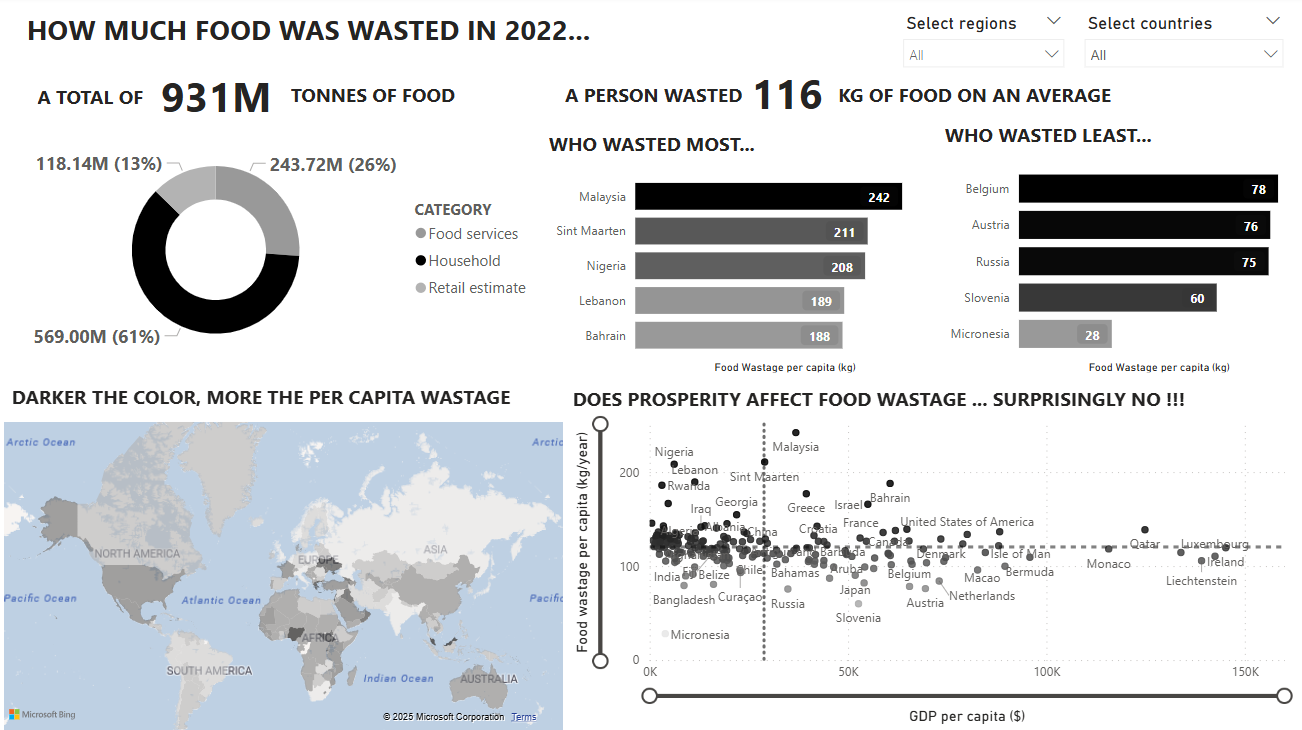

The dashboard page shown, as its layout file describes it:
{"tool":"powerbi","page":{"name":"Page 1","canvas":[1280,720],"ordinal":0},"visuals":[{"type":"clusteredBarChart","title":"WHO WASTED MOST...","fields":{"Category":["fin_v1.Country"],"Y":["fin_v1.Measure 2"]},"box":[530.1,131.4,385.6,241],"z":0},{"type":"slicer","fields":{"Values":["fin_v1.UN Region"]},"box":[870.4,11.7,176.7,67.2],"z":1000},{"type":"card","fields":{"Values":["fin_v1.Total Wastage"]},"box":[143.1,51.1,135.8,92],"z":2000},{"type":"textbox","box":[32.1,80.3,124.1,36.5],"z":3000},{"type":"filledMap","fields":{"Category":["fin_v1.Country"]},"box":[0,410.4,553.5,309.6],"z":4000},{"type":"donutChart","title":"Category-wise distribution","fields":{"Y":["Sum(fin_v1.Food service estimate (tonnes/year))","Sum(fin_v1.Household estimate (tonnes/year))","Sum(fin_v1.Retail estimate (tonnes/year))"]},"box":[12.1,136.2,515.9,223.9],"z":5000},{"type":"slicer","fields":{"Values":["fin_v1.Country"]},"box":[1047,12.1,213.3,65.1],"z":6000},{"type":"textbox","box":[21.9,10.2,617.8,61.3],"z":7000},{"type":"card","fields":{"Values":["fin_v1.Food Wastage per capita (kg/year)"]},"box":[718.5,71.6,96.4,46.7],"z":8000},{"type":"clusteredBarChart","title":"WHO WASTED LEAST...","fields":{"Category":["fin_v1.Country"],"Y":["fin_v1.Measure 2"]},"box":[915.7,122.7,354.9,249.7],"z":9000},{"type":"scatterChart","title":"DOES PROSPERITY AFFECT FOOD WASTAGE ...     SURPRISINGLY NO !!!","fields":{"X":["Sum(fin_v1.GDP_PC)"],"Y":["fin_v1.Food Wastage per capita (kg/year)"],"Category":["fin_v1.Country"]},"box":[553.5,379.7,717.1,334.4],"z":10000},{"type":"textbox","box":[278.9,78.9,189.9,36.5],"z":11000},{"type":"textbox","box":[7.3,372.4,518.5,38],"z":12000},{"type":"textbox","box":[525.8,78.9,203,36.5],"z":13000},{"type":"textbox","box":[812,78.9,388.5,36.5],"z":14000},{"type":"textbox","box":[525.8,78.9,203,36.5],"z":15000}]}

Visuals, with their boxes in screenshot pixels (x1, y1, x2, y2), scaled from the page's 1280x720 canvas onto the 1302x730 screenshot:
"WHO WASTED MOST..." clusteredBarChart: box=[539, 133, 931, 378]
slicer - fin_v1.UN Region: box=[885, 12, 1065, 80]
card - fin_v1.Total Wastage: box=[146, 52, 284, 145]
textbox: box=[33, 81, 159, 118]
filledMap - fin_v1.Country: box=[0, 416, 563, 729]
"Category-wise distribution" donutChart: box=[12, 138, 537, 365]
slicer - fin_v1.Country: box=[1065, 12, 1282, 78]
textbox: box=[22, 10, 651, 72]
card - fin_v1.Food Wastage per capita (kg/year): box=[731, 73, 829, 120]
"WHO WASTED LEAST..." clusteredBarChart: box=[931, 124, 1292, 378]
"DOES PROSPERITY AFFECT FOOD WASTAGE ...     SURPRISINGLY NO !!!" scatterChart: box=[563, 385, 1292, 724]
textbox: box=[284, 80, 477, 117]
textbox: box=[7, 378, 535, 416]
textbox: box=[535, 80, 741, 117]
textbox: box=[826, 80, 1221, 117]
textbox: box=[535, 80, 741, 117]
